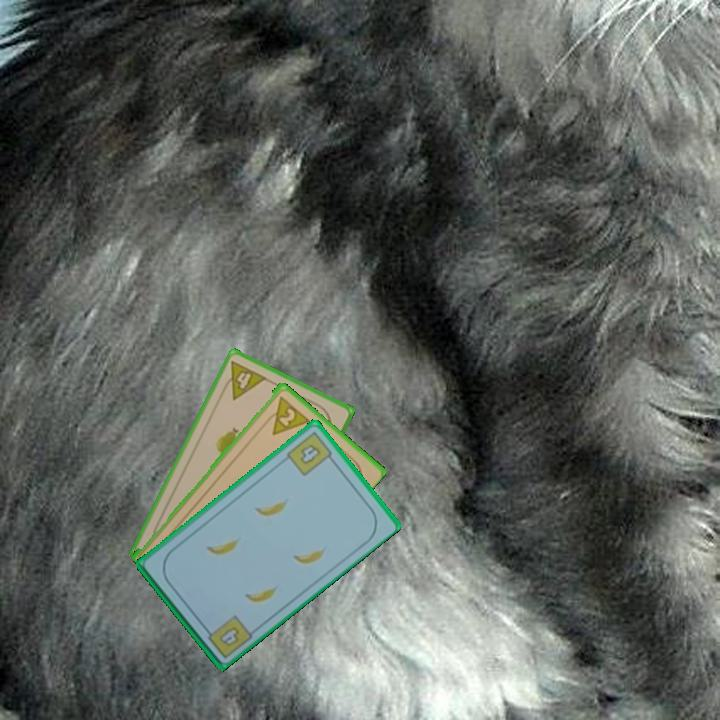2p: (260, 392, 312, 438)
4b: (282, 428, 338, 479), (200, 611, 255, 661)
4p: (217, 357, 270, 403)
